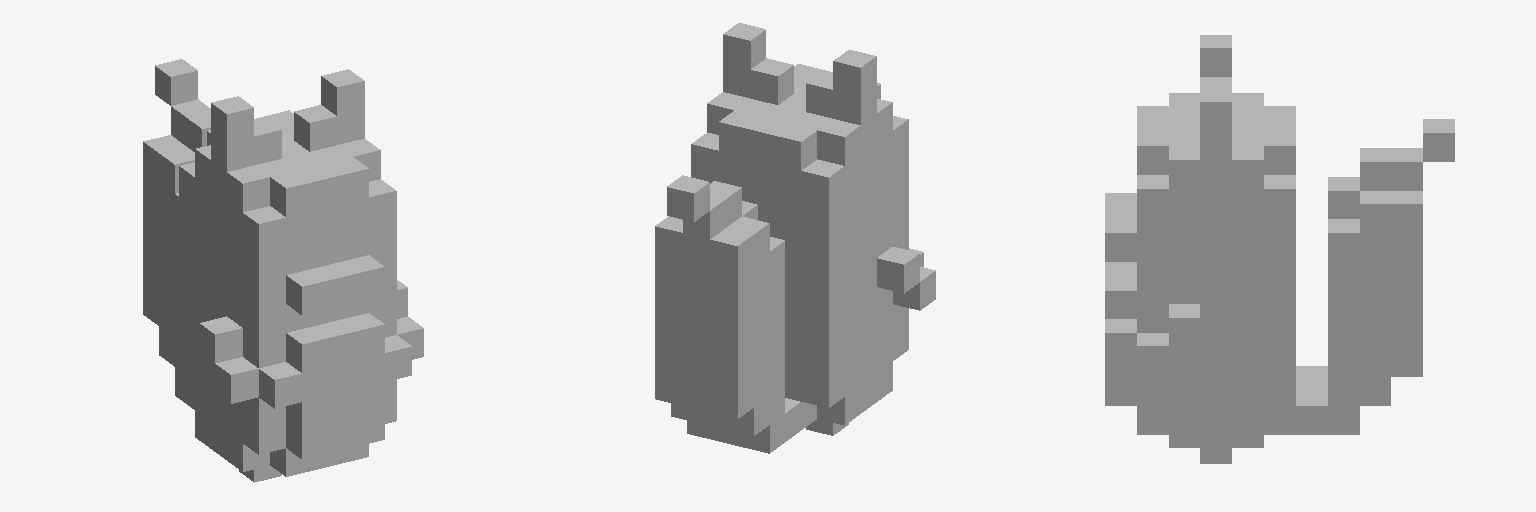
The model's file is furetto.obj.
The picture shows the model from 3 angles: view 1: azimuth 30°, elevation 25°; view 2: azimuth 150°, elevation 25°; view 3: azimuth 270°, elevation 25°; orthographic projection.
Bounding box in the file's own units: 7 × 13 × 11.